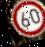Speed Limit -60-: (4, 0, 45, 41)
